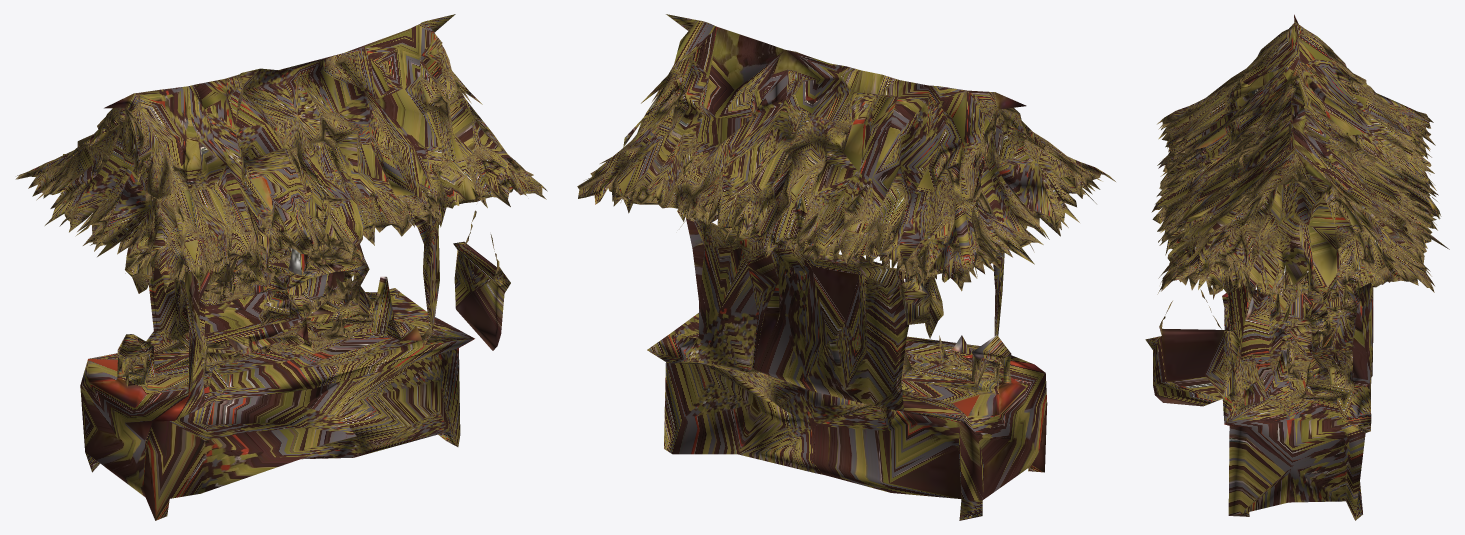
The model's file is market-stall.glb.
3 renders of one model, left to right at view 1: azimuth 30°, elevation 25°; view 2: azimuth 150°, elevation 25°; view 3: azimuth 270°, elevation 25°, orthographic. The views are drawn at different scales.
Size of the model in its own units: 1.86 by 1.65 by 1.24.
Materials: 1 (1 with a texture image).
